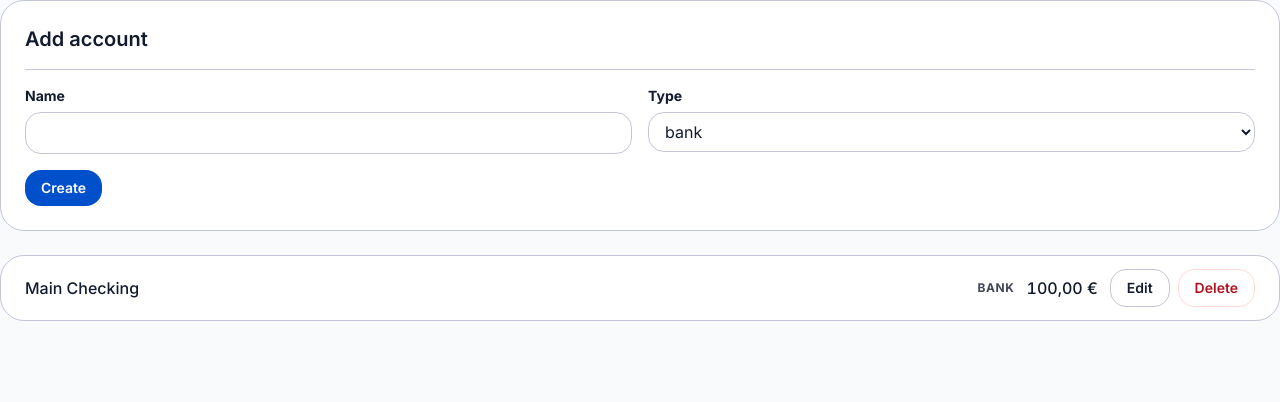
it: AccountsContainer › creates a new account and refreshes the list
The image size is (1280, 402).
Expected: the text "Main Checking" is shown, x1=25 y1=278 x2=139 y2=298
Type "Savings" into the field labelled "Name". click: [328, 133]
box: x1=25 y1=112 x2=632 y2=154
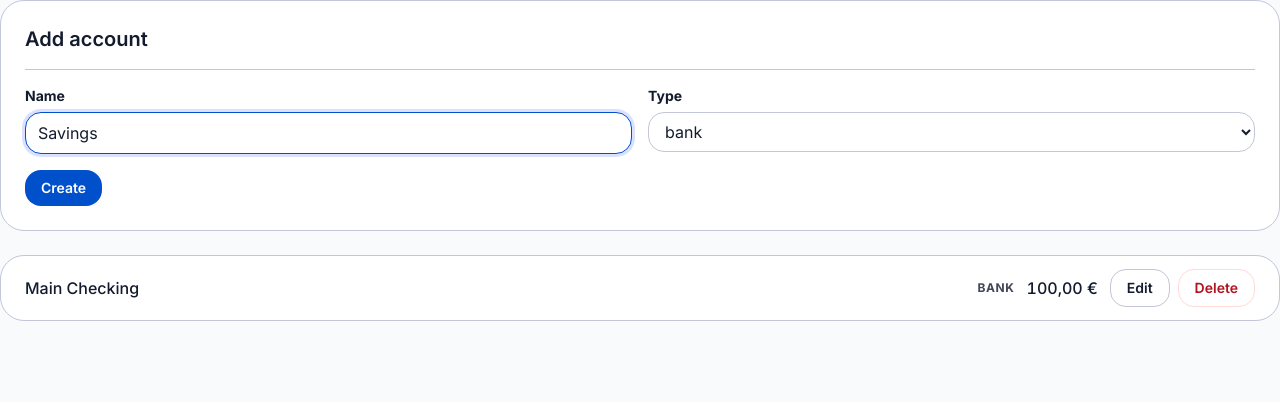
Click the button "Create". click: [64, 188]
box: x1=25 y1=170 x2=102 y2=206
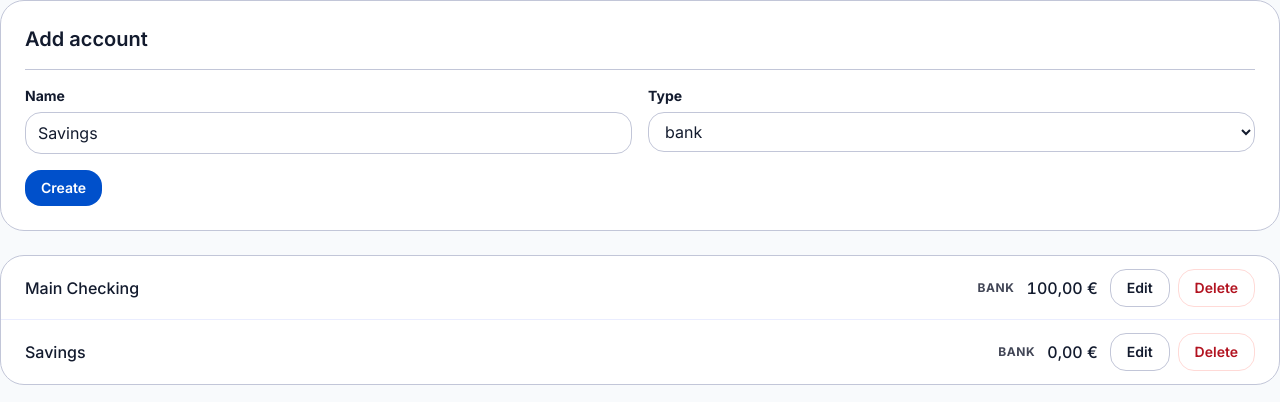
Expected: the text "Savings" is shown, x1=25 y1=342 x2=86 y2=362
